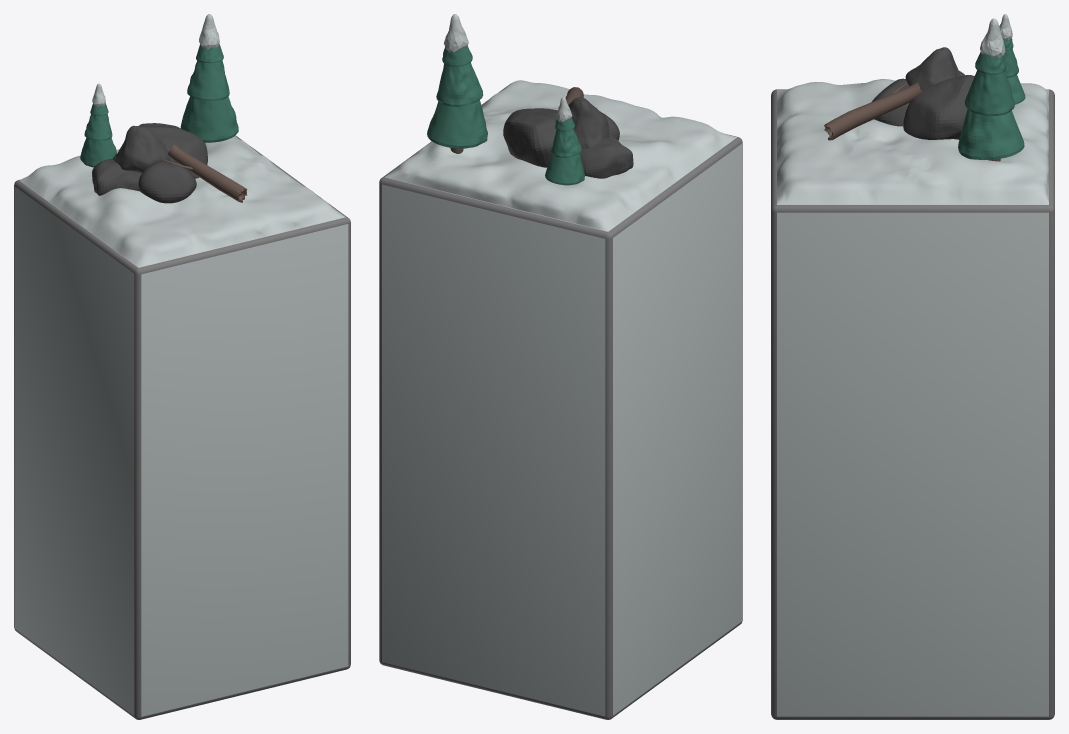
File: tile2.fbx
3 renders of one model, left to right at view 1: azimuth 30°, elevation 25°; view 2: azimuth 150°, elevation 25°; view 3: azimuth 270°, elevation 25°, orthographic. The views are drawn at different scales.
Parts seen in each view (by area): view 1: ель.001; view 2: ель.001; view 3: ель.001.
Part boxes in pixels (<box>): ель.001: <box>14,14,350,719</box>; ель.001: <box>379,14,742,719</box>; ель.001: <box>771,14,1054,719</box>.
Bounding box in the file's own units: 200 × 527 × 200.
